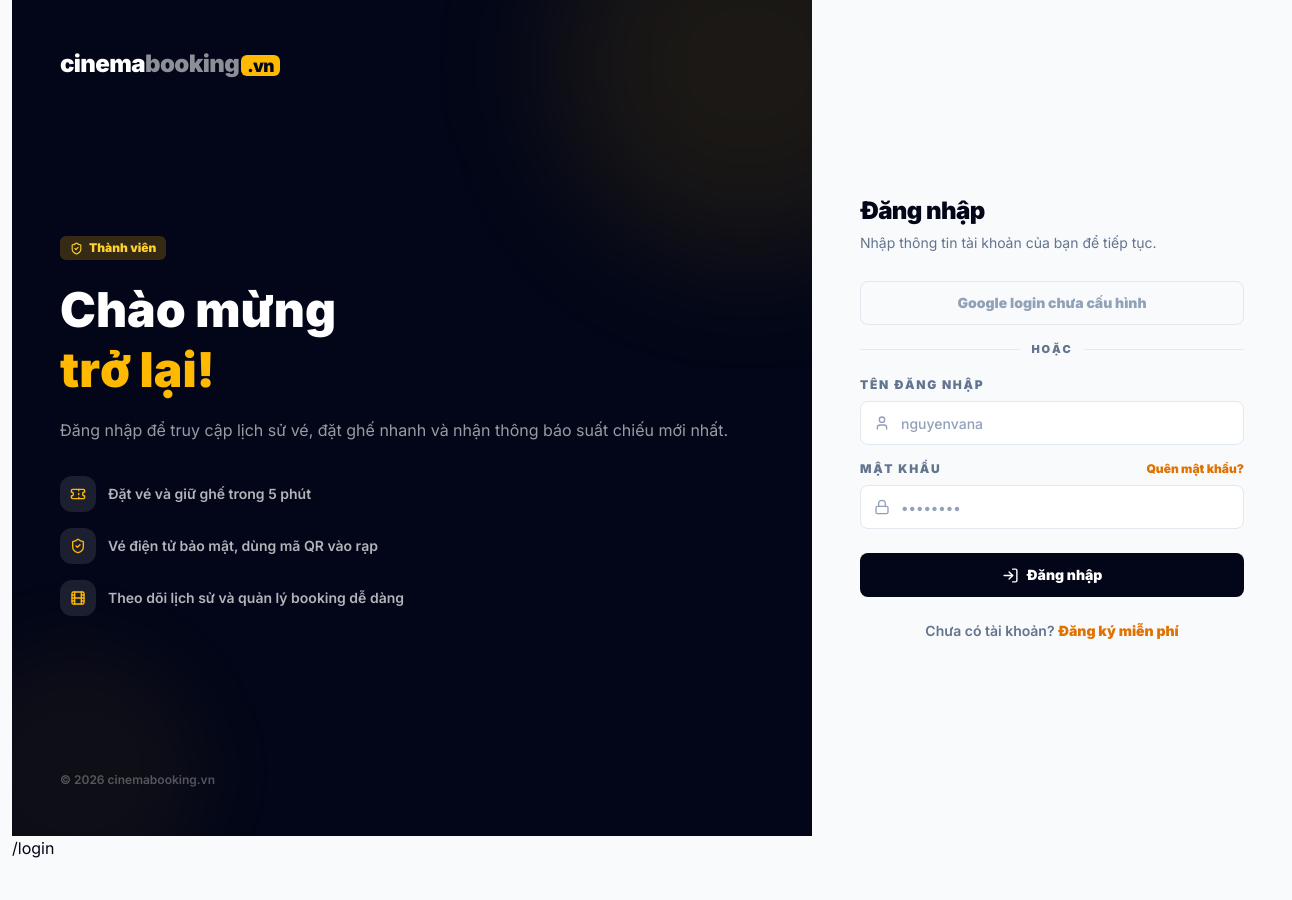
Test: LoginPage › keeps the user on login page and shows Vietnamese error for invalid credentials
The width and height of the screenshot is (1292, 900).
Type "wrong-user" into the field with placeholder "nguyenvana".
click(1052, 423); type("wrong-user")  # box x1=860 y1=401 x2=1244 y2=445
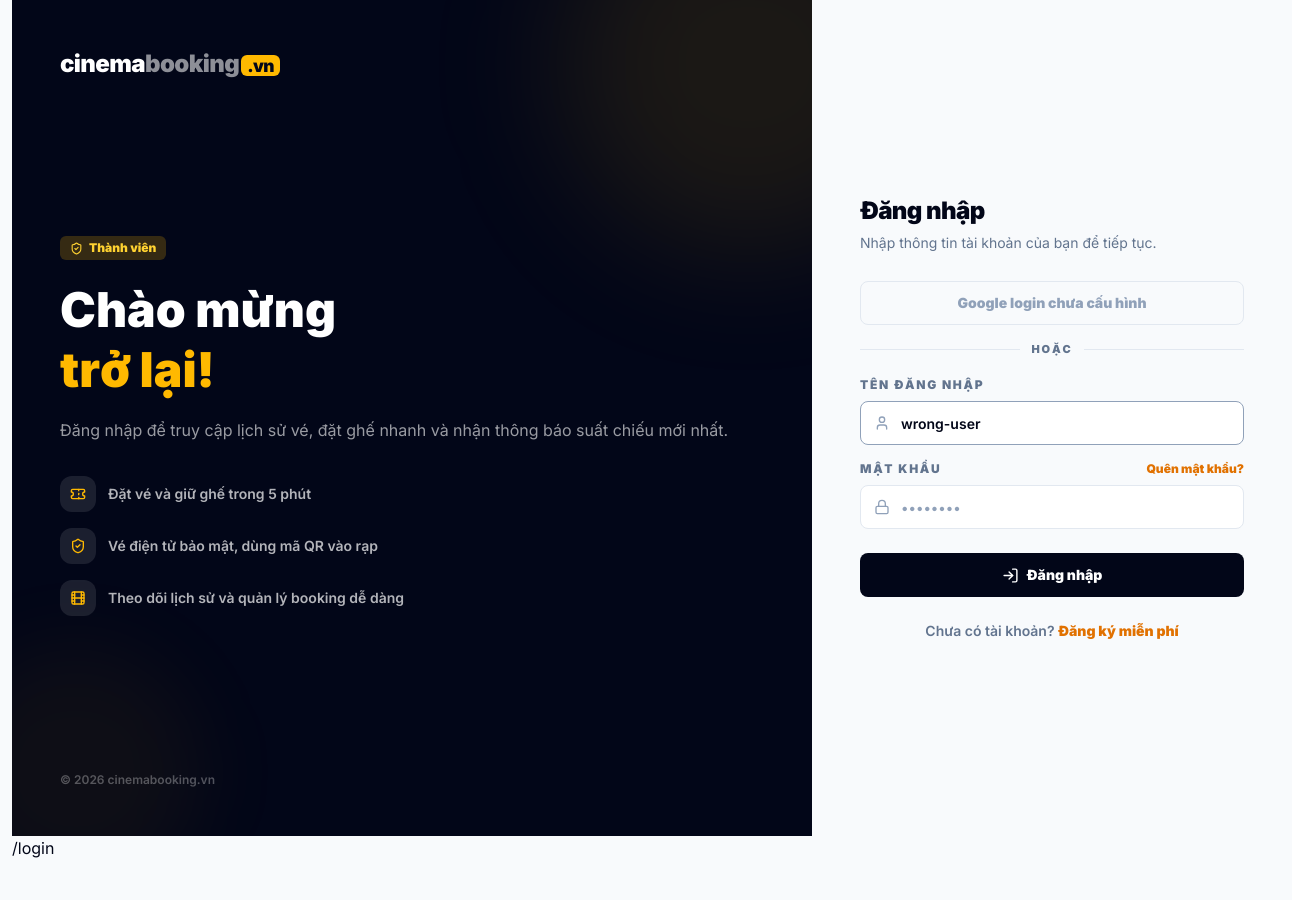
Type "wrong-password" into the password field with placeholder "••••••••".
click(1052, 507); type("wrong-password")  # box x1=860 y1=485 x2=1244 y2=529
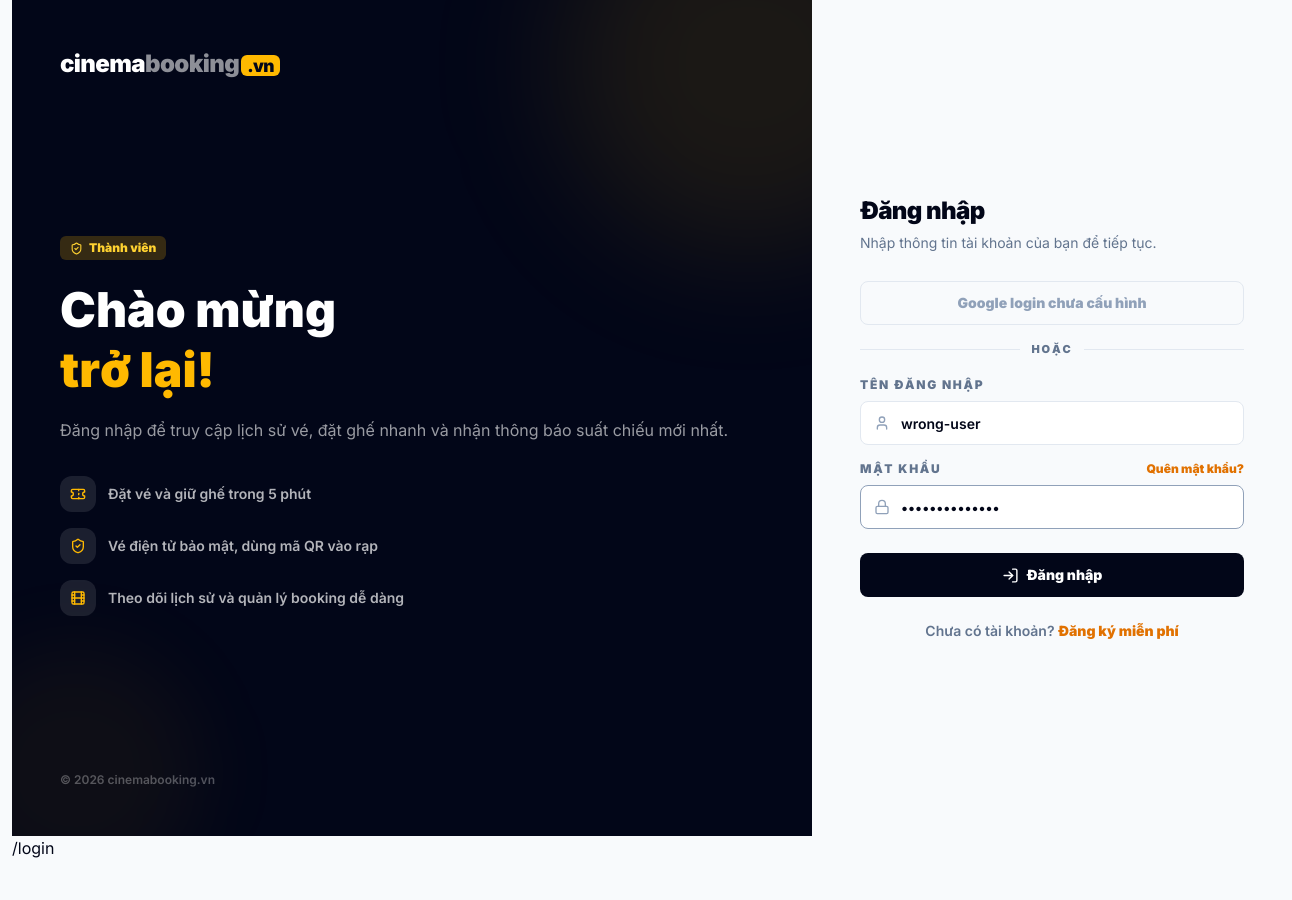
Click the button "Đăng nhập".
click(1052, 575)  # box x1=860 y1=553 x2=1244 y2=597
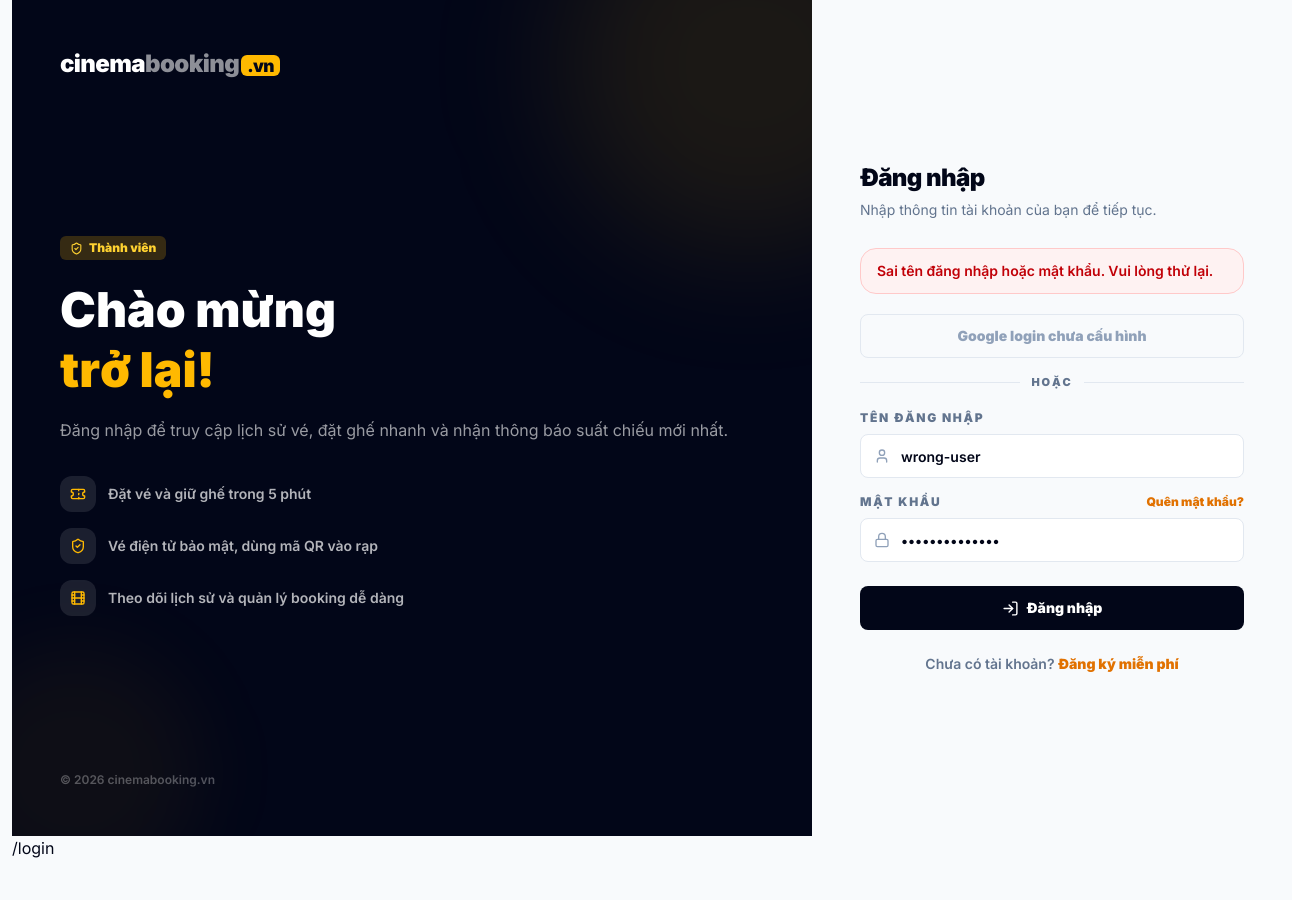
Expected: the text with test id "location" reads "/login", x1=12 y1=838 x2=54 y2=858
Expected: the text "Sai tên đăng nhập hoặc mật khẩu. Vui lòng thử lại." is shown, x1=860 y1=248 x2=1244 y2=294
